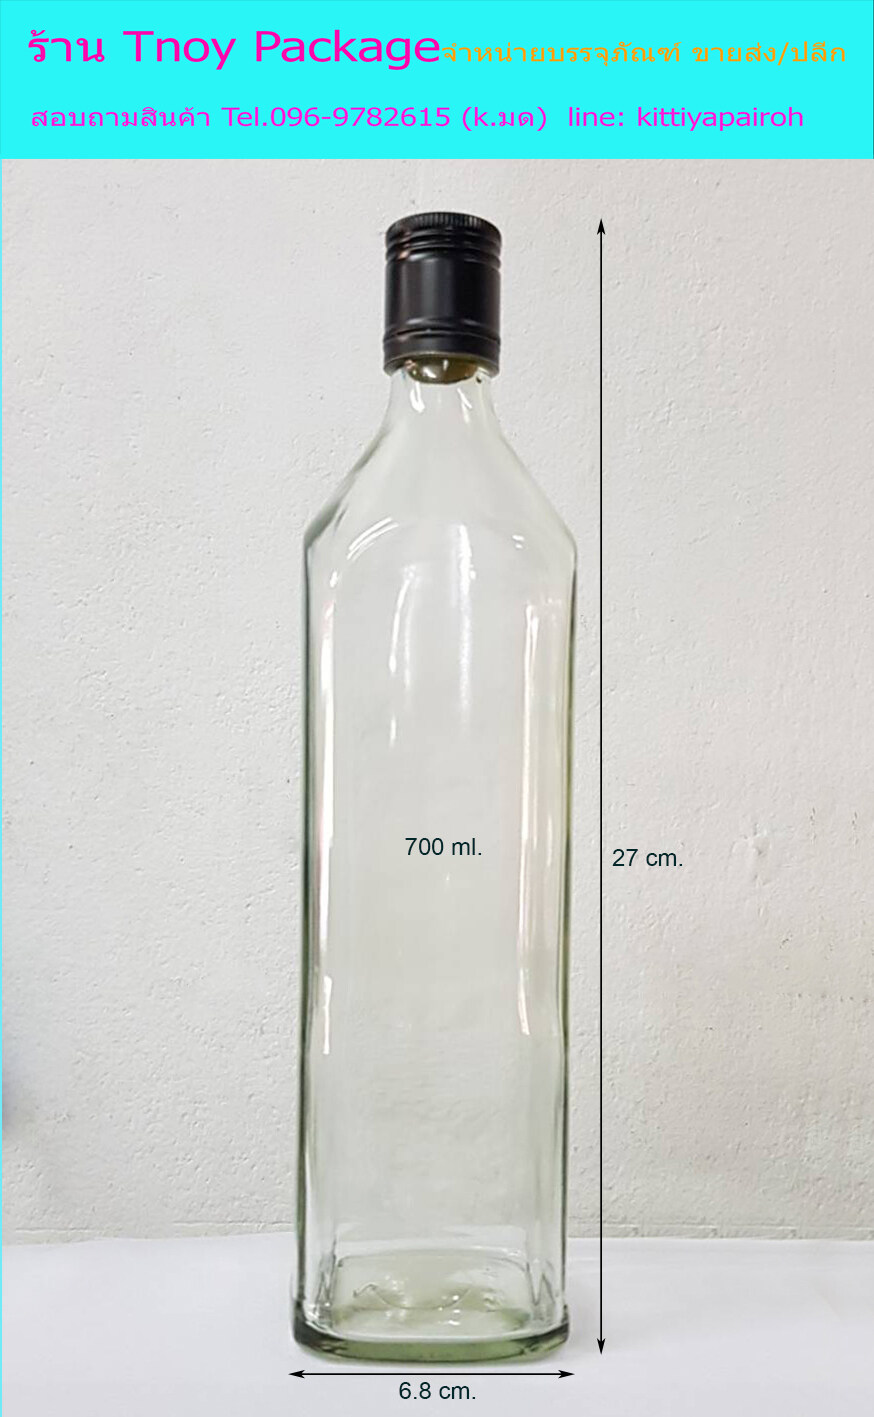glass_bottle: (271, 183, 587, 1360)
